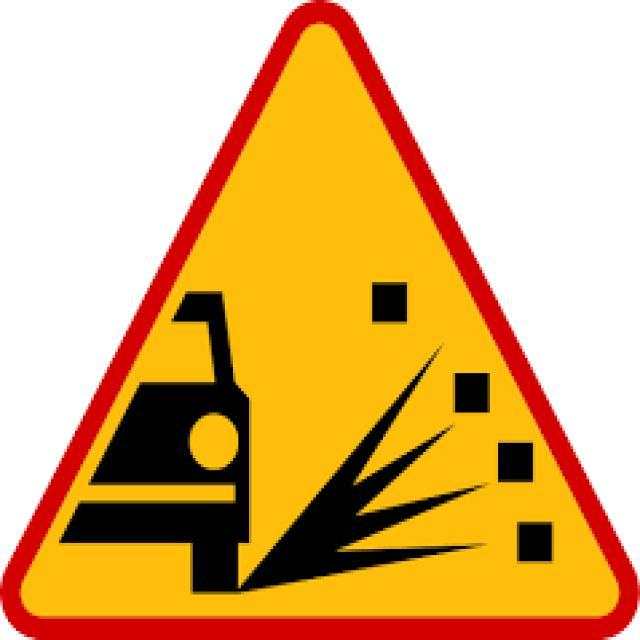loose gravel: (19, 28, 622, 619)
